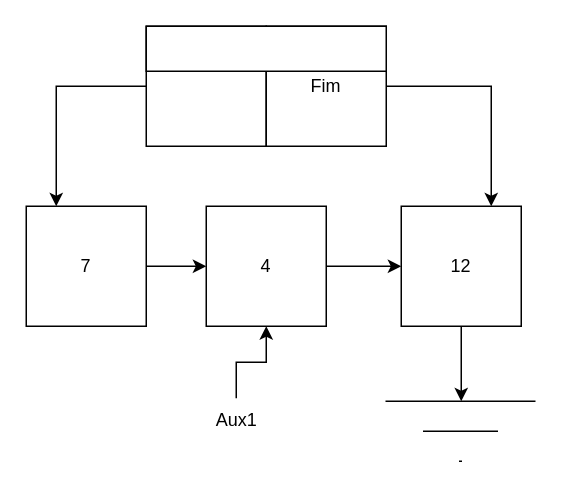
The diagram is 563 pixels wide and 488 high, and some of its shapes have lost their labels. Each missing label, with the centre of its shape:
Inicio: point (205, 85)
LISTA: point (265, 48)
